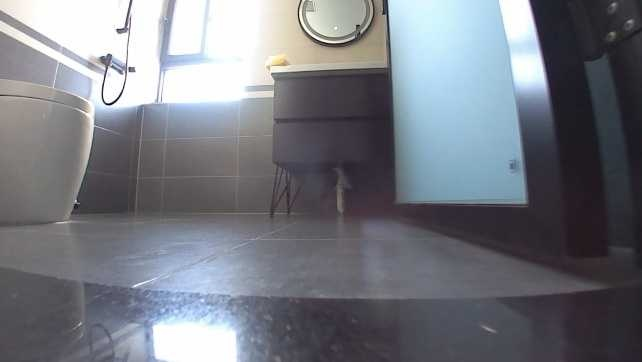door_anno: (381, 0, 641, 263)
toilet: (0, 78, 94, 225)
washstand: (267, 60, 388, 170)
